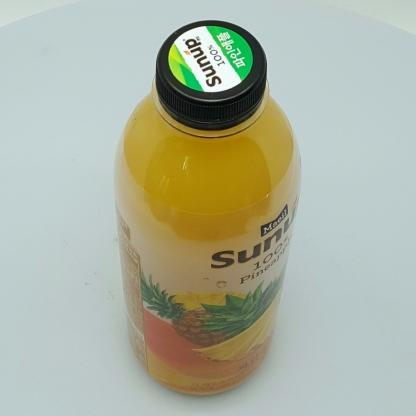----100_----750ML: (114, 21, 303, 397)
